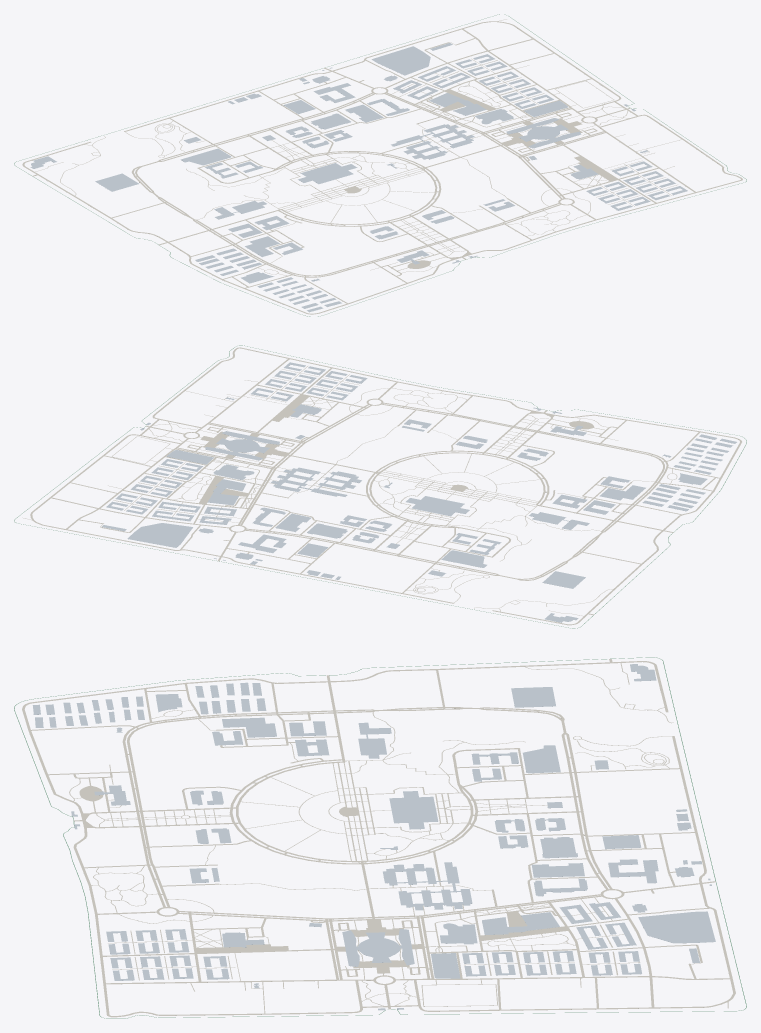
The model's file is SEU_OSM_BASE_v01.glb.
3 views of the same model, one above another, from view 1: azimuth 30°, elevation 25°; view 2: azimuth 150°, elevation 25°; view 3: azimuth 270°, elevation 25° (orthographic). The views are drawn at different scales.
Visible parts, largest first — view 1: SEU_BOUNDARY_OSM_171389014, SEU_B_OSMWAY_1056927550, SEU_B_OSMWAY_630686644, SEU_B_OSMWAY_300030310, SEU_R_OSMWAY_300165418, SEU_R_OSMWAY_300165431; view 2: SEU_B_OSMWAY_1056927550, SEU_BOUNDARY_OSM_171389014, SEU_B_OSMWAY_630686644, SEU_B_OSMWAY_300030310, SEU_R_OSMWAY_300165431, SEU_R_OSMWAY_300165418, SEU_B_OSMWAY_1056927538; view 3: SEU_B_OSMWAY_1056927550, SEU_BOUNDARY_OSM_171389014, SEU_B_OSMWAY_630686644, SEU_B_OSMWAY_300030310, SEU_R_OSMWAY_300165418, SEU_B_OSMWAY_1056927538, SEU_B_OSMWAY_1488713409, SEU_R_OSMWAY_300165431, SEU_B_OSMWAY_300030325, SEU_R_OSMWAY_630686683, SEU_B_OSMWAY_1056927534, SEU_B_OSMWAY_1056927536 (+4 smaller).
Part boxes in pixels (x1,y1,x2,y2): SEU_BOUNDARY_OSM_171389014: [14, 14, 746, 316]; SEU_B_OSMWAY_1056927550: [371, 46, 430, 75]; SEU_B_OSMWAY_630686644: [506, 118, 581, 148]; SEU_B_OSMWAY_300030310: [298, 163, 357, 184]; SEU_R_OSMWAY_300165418: [22, 164, 311, 314]; SEU_R_OSMWAY_300165431: [124, 29, 461, 131]; SEU_B_OSMWAY_1056927550: [127, 523, 192, 547]; SEU_BOUNDARY_OSM_171389014: [14, 345, 746, 628]; SEU_B_OSMWAY_630686644: [205, 431, 279, 460]; SEU_B_OSMWAY_300030310: [406, 496, 469, 516]; SEU_R_OSMWAY_300165431: [66, 529, 454, 603]; SEU_R_OSMWAY_300165418: [573, 440, 741, 624]; SEU_B_OSMWAY_1056927538: [441, 550, 486, 567]; SEU_B_OSMWAY_1056927550: [638, 911, 715, 943]; SEU_BOUNDARY_OSM_171389014: [14, 657, 746, 1018]; SEU_B_OSMWAY_630686644: [342, 929, 414, 966]; SEU_B_OSMWAY_300030310: [389, 791, 438, 829]; SEU_R_OSMWAY_300165418: [25, 661, 650, 704]; SEU_B_OSMWAY_1056927538: [522, 745, 560, 773]; SEU_B_OSMWAY_1488713409: [511, 687, 555, 707]; SEU_R_OSMWAY_300165431: [672, 736, 732, 978]; SEU_B_OSMWAY_300030325: [358, 722, 391, 758]; SEU_R_OSMWAY_630686683: [178, 894, 602, 919]; SEU_B_OSMWAY_1056927534: [222, 717, 276, 737]; SEU_B_OSMWAY_1056927536: [608, 859, 658, 883].
Size of the model in its own units: 1860 by 0.14 by 1594.
